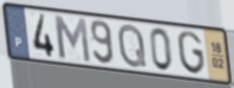0: (148, 26, 174, 73)
4: (31, 12, 57, 60)
9: (89, 19, 114, 67)
G: (176, 30, 207, 77)
M: (51, 13, 93, 64)
Q: (116, 22, 149, 70)
